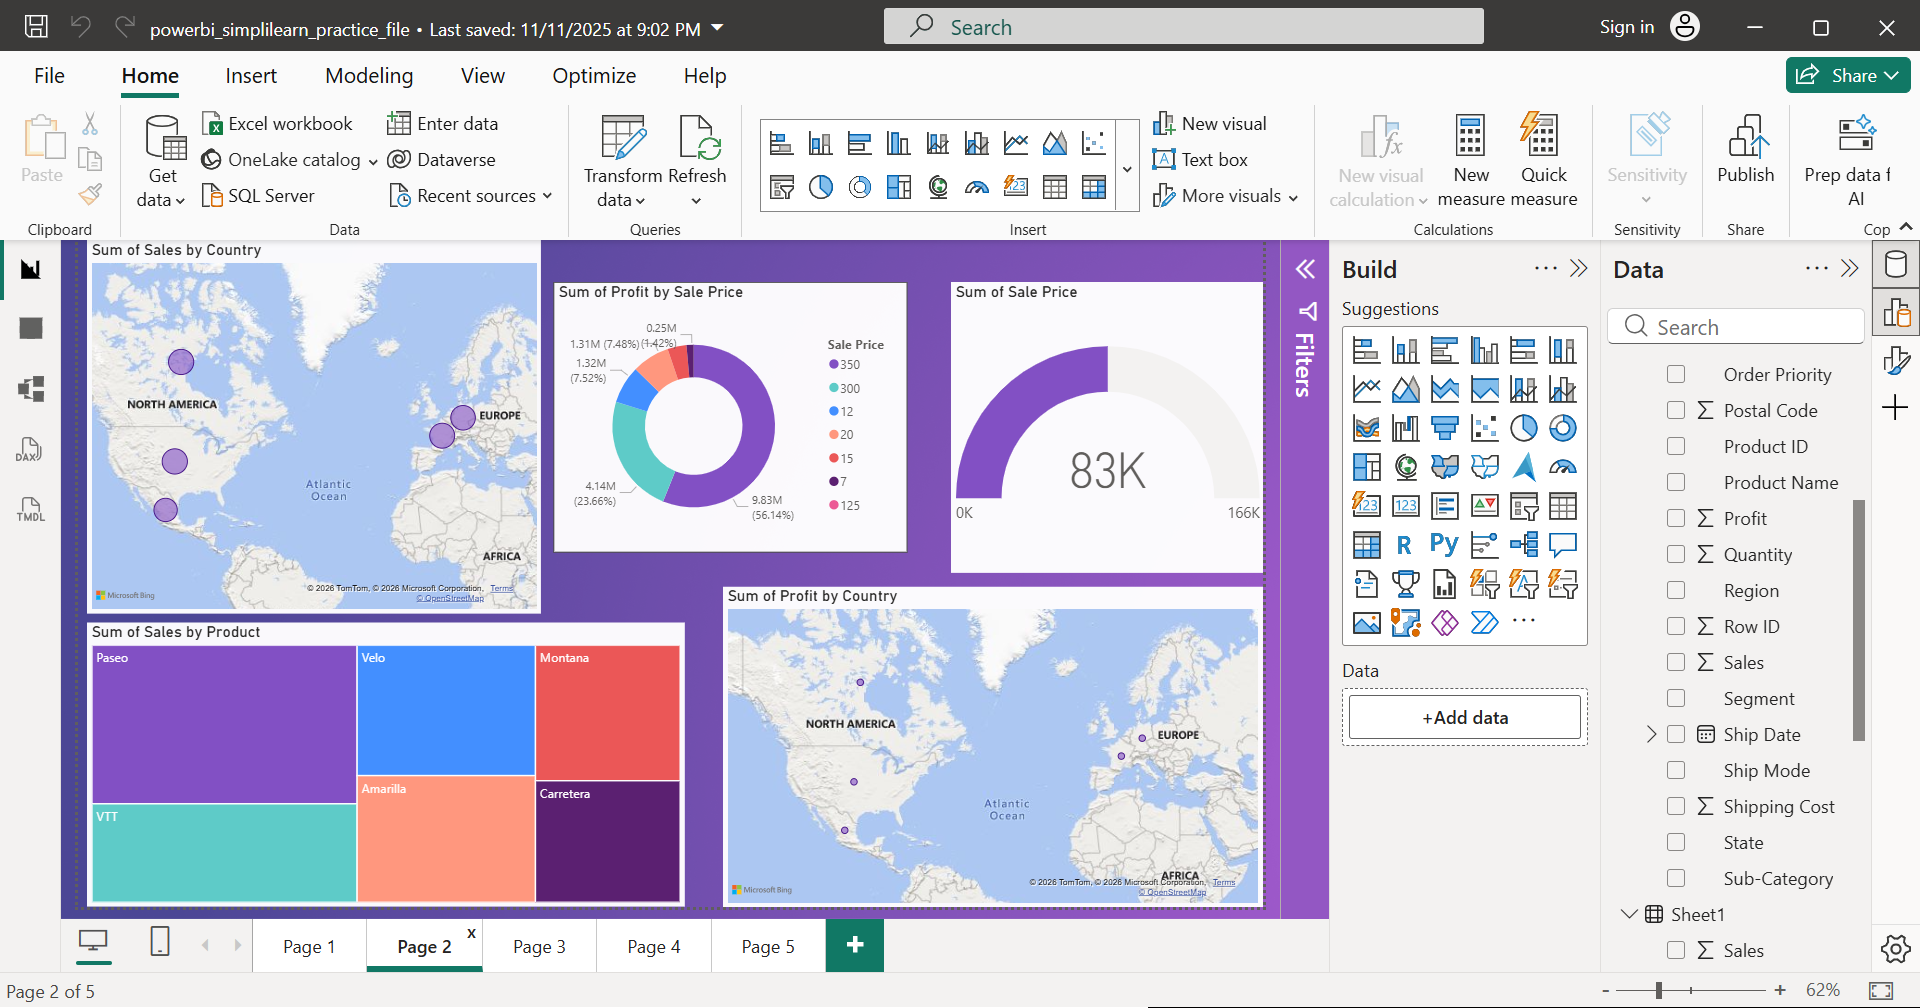

The dashboard page shown, as its layout file describes it:
{"tool":"powerbi","page":{"name":"Page 2","canvas":[1280,720],"ordinal":1},"visuals":[{"type":"map","fields":{"Category":["Sheet1.Country"],"Size":["Sum(Sheet1. Sales)"]},"box":[10.1,0,490.1,403],"z":0},{"type":"donutChart","fields":{"Y":["Sum(Sheet1.Profit)"],"Category":["Sheet1.Sale Price"]},"box":[513.3,45,381.7,291.7],"z":1000},{"type":"treemap","fields":{"Group":["Sheet1.Product"],"Values":["Sum(Sheet1. Sales)"]},"box":[10,413.3,645,306.7],"z":2000},{"type":"map","fields":{"Category":["Sheet1.Country"]},"box":[696.7,373.3,583.3,346.7],"z":3000},{"type":"gauge","fields":{"Y":["Sum(Sheet1.Sale Price)"]},"box":[942,46,338,314],"z":4000}]}

Visuals, with their boxes on the page's 1280x720 design canvas (x1, y1, x2, y2). These are canvas units, not pixel positions in the 1920x1008 screenshot, which may show the page scaled, cropped or inside an application window:
map - Sheet1.Country x Sum(Sheet1. Sales): x1=10, y1=0, x2=500, y2=403
donutChart - Sum(Sheet1.Profit) x Sheet1.Sale Price: x1=513, y1=45, x2=895, y2=337
treemap - Sheet1.Product x Sum(Sheet1. Sales): x1=10, y1=413, x2=655, y2=720
map - Sheet1.Country: x1=697, y1=373, x2=1280, y2=720
gauge - Sum(Sheet1.Sale Price): x1=942, y1=46, x2=1280, y2=360
